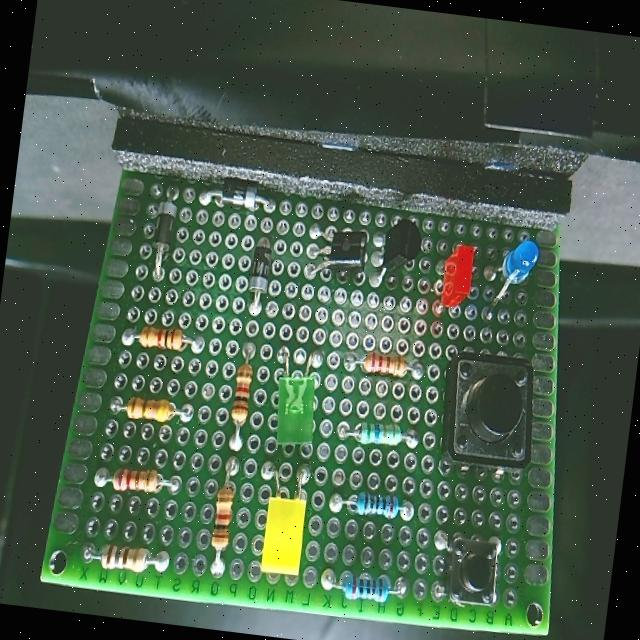diode: (145, 182, 186, 282), (195, 172, 282, 218), (244, 226, 279, 317)
led: (252, 453, 320, 582), (477, 226, 545, 334), (266, 339, 330, 452), (425, 232, 480, 322)
resistor: (199, 448, 251, 584), (338, 334, 436, 394), (216, 334, 263, 455), (314, 557, 414, 611), (89, 457, 188, 509), (327, 475, 417, 529), (100, 381, 200, 429), (327, 409, 423, 458), (81, 532, 174, 579), (112, 316, 206, 362)
switch: (429, 342, 548, 488), (424, 523, 512, 614)
transistor: (297, 205, 375, 288), (363, 207, 428, 296)
